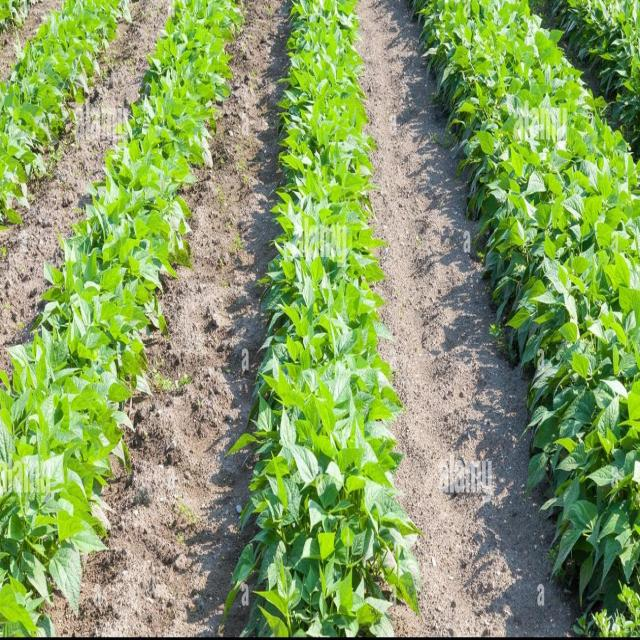row: (43, 0, 295, 639), (356, 0, 590, 640), (0, 0, 179, 381), (529, 0, 640, 166), (0, 0, 64, 99)
